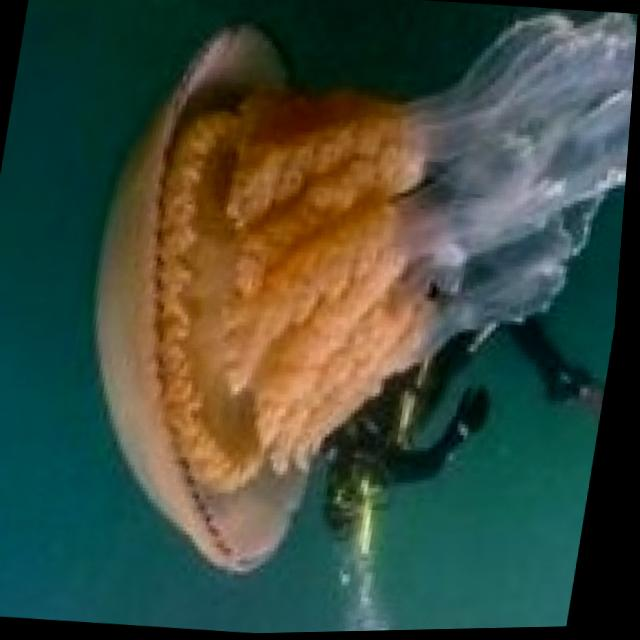Human: (305, 280, 623, 574)
Jellyfish: (31, 0, 640, 604)
